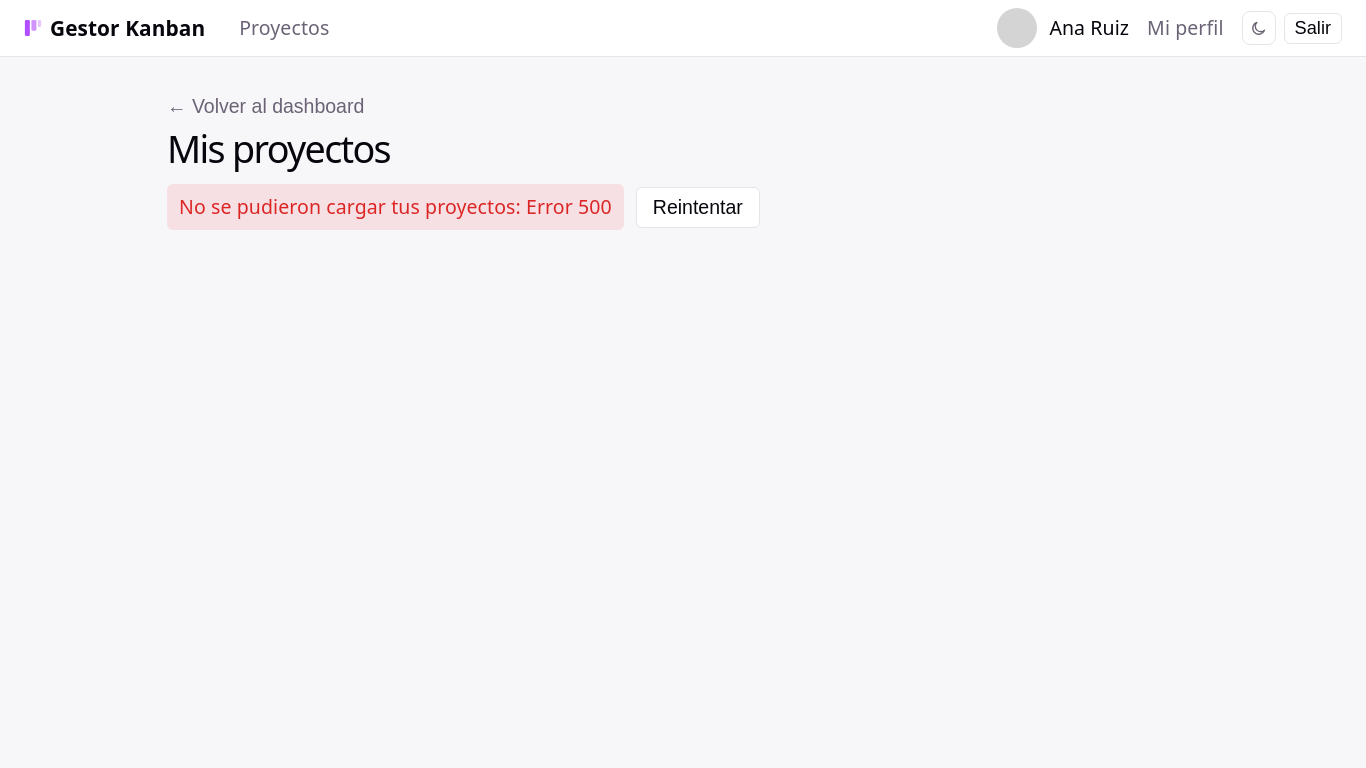
it: Página de proyectos integrada › muestra el error de carga y permite volver a solicitar los proyectos
Check: the text "No se pudieron cargar tus proyectos: Error 500" is shown, box [167, 184, 624, 230]
What coordinates should you click on to do the following:
click the button "Reintentar"
I would click on:
 (698, 207)
Its box is [636, 187, 760, 228].
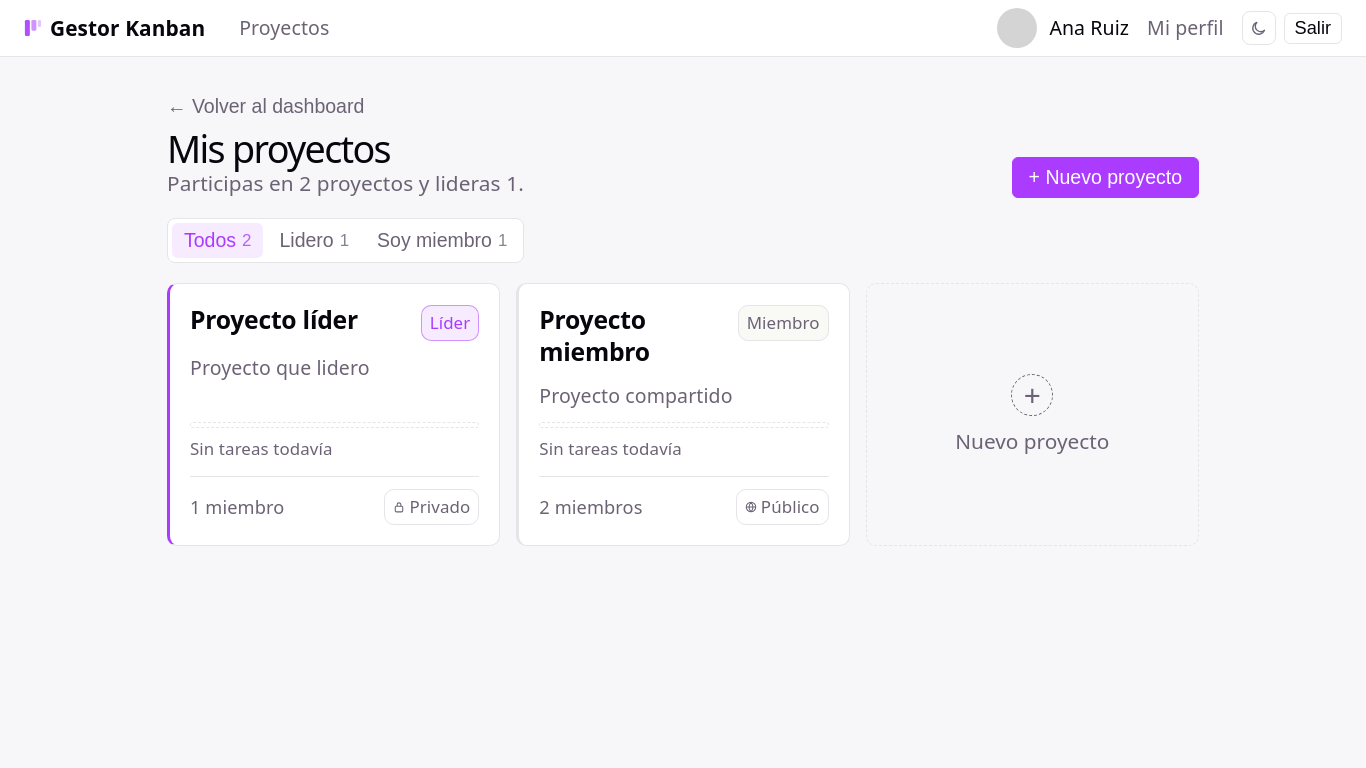
Check: the heading "Proyecto líder" is shown, box [190, 304, 358, 336]
Check: the heading "Proyecto miembro" is shown, box [539, 303, 650, 368]
